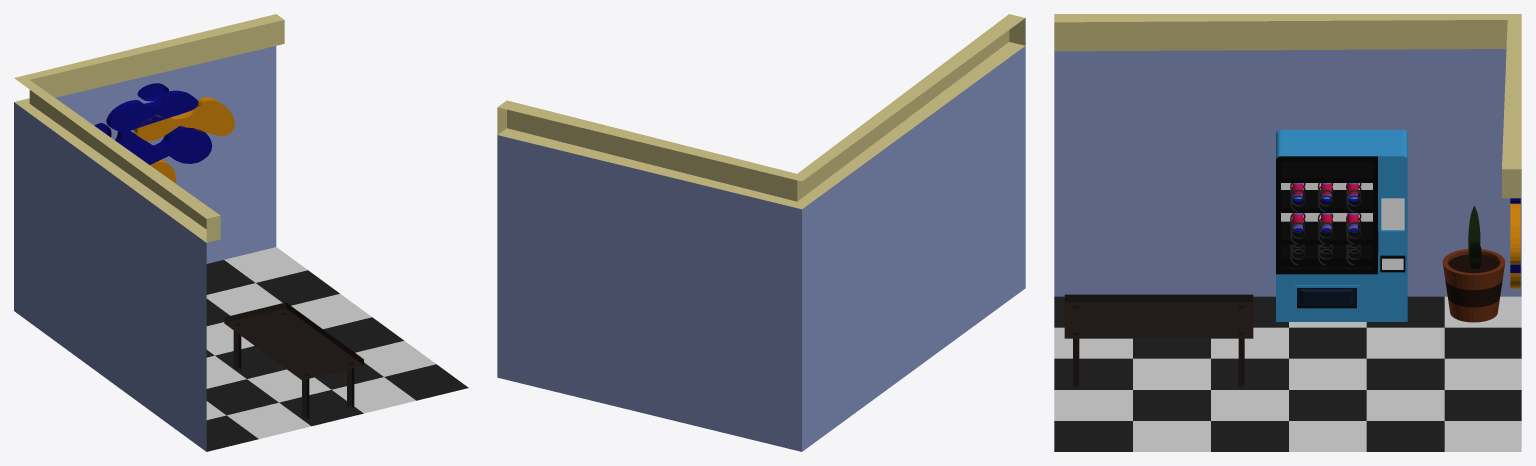
The model's file is Allanim0018.obj.
3 renders of one model, left to right at view 1: azimuth 30°, elevation 25°; view 2: azimuth 150°, elevation 25°; view 3: azimuth 270°, elevation 25°, orthographic. The views are drawn at different scales.
Parts seen in each view (by area): view 1: ruangan_Cube.003, meja_Cube.004, logo.001_Circle.019, logo_Circle.006, logo.005_Circle.023; view 2: ruangan_Cube.003; view 3: ruangan_Cube.003, vending_machine_Cube.001, meja_Cube.004, pot_bunga_Cylinder, per_second\_Spiral.010, Plane.007, logo_Circle.006.
Boxes of the visible parts, left/top/right/bottom form: ruangan_Cube.003: left=14, top=14, right=468, bottom=451; meja_Cube.004: left=224, top=302, right=363, bottom=420; logo.001_Circle.019: left=115, top=126, right=212, bottom=164; logo_Circle.006: left=133, top=97, right=234, bottom=141; logo.005_Circle.023: left=106, top=90, right=198, bottom=133; ruangan_Cube.003: left=497, top=14, right=1025, bottom=451; ruangan_Cube.003: left=1054, top=14, right=1521, bottom=451; vending_machine_Cube.001: left=1276, top=130, right=1407, bottom=321; meja_Cube.004: left=1064, top=294, right=1253, bottom=388; pot_bunga_Cylinder: left=1442, top=249, right=1505, bottom=322; per_second\_Spiral.010: left=1290, top=183, right=1361, bottom=265; Plane.007: left=1468, top=206, right=1481, bottom=268; logo_Circle.006: left=1510, top=203, right=1520, bottom=264.
Bounding box in the file's own units: 11.73 × 9.95 × 14.9.
